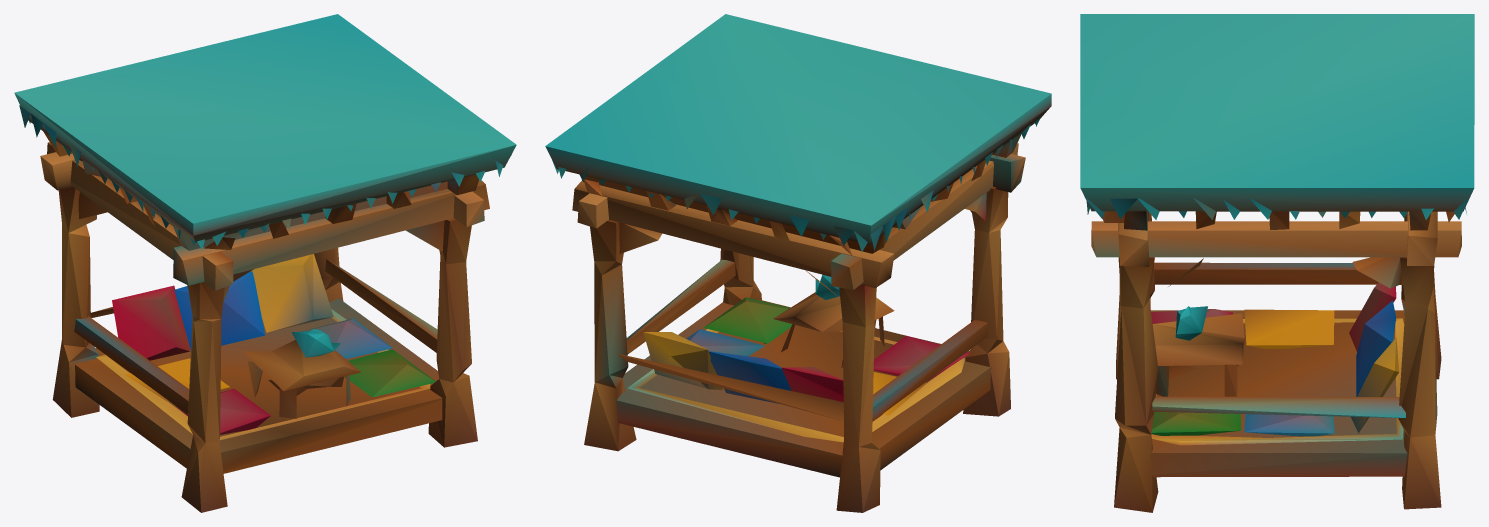
Rendered from choy_lo.glb.
3 views of the same model, side by side, from view 1: azimuth 30°, elevation 25°; view 2: azimuth 150°, elevation 25°; view 3: azimuth 270°, elevation 25° (orthographic). The views are drawn at different scales.
Parts seen in each view (by area): view 1: geometry_0; view 2: geometry_0; view 3: geometry_0.
Part boxes in pixels (x1,y1,x2,y2): geometry_0: (14,14,516,512); geometry_0: (545,14,1051,512); geometry_0: (1080,14,1474,512).
Bounding box in the file's own units: 0.9331 × 0.8462 × 0.894.
